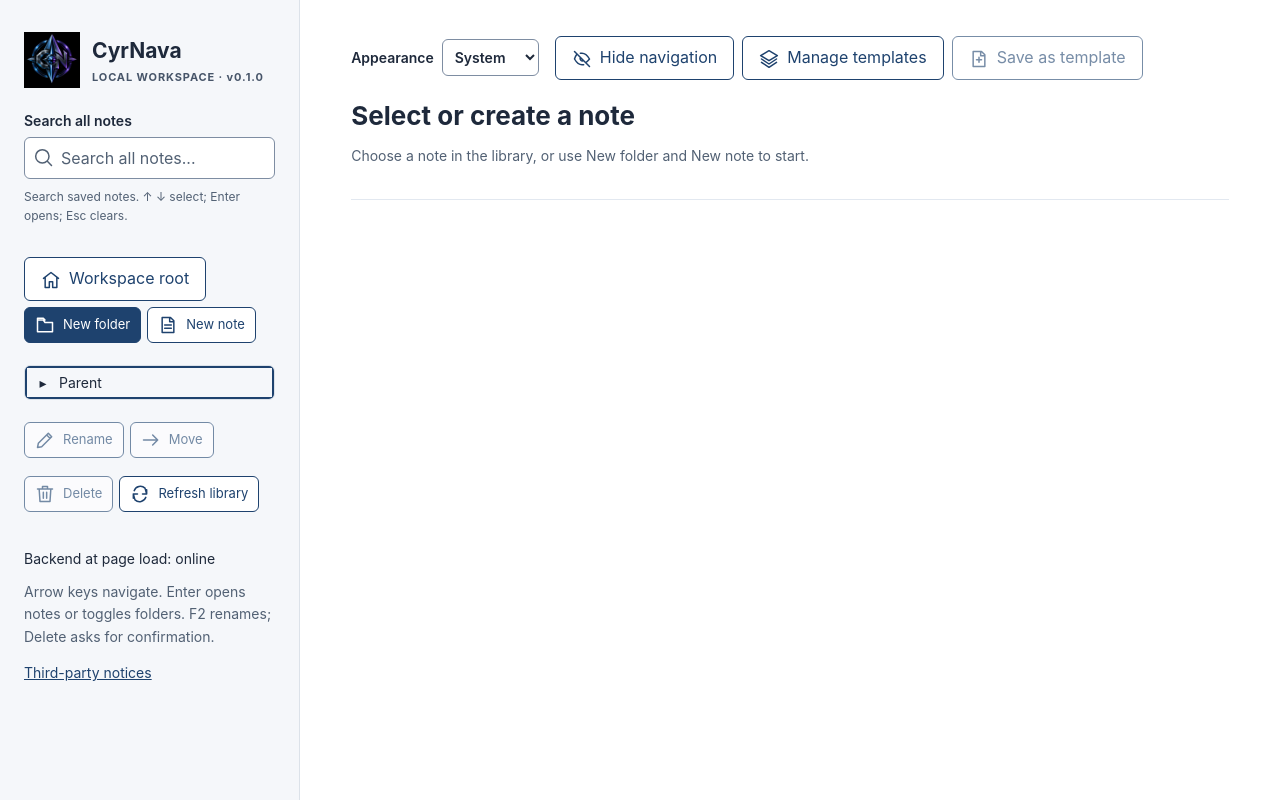
Test: handles invalid folder moves in the dialog and supports Escape cancellation
Click the list item with aria-label "Folder Parent" at (67, 382), box top-left (33, 374), bottom-right (102, 391)
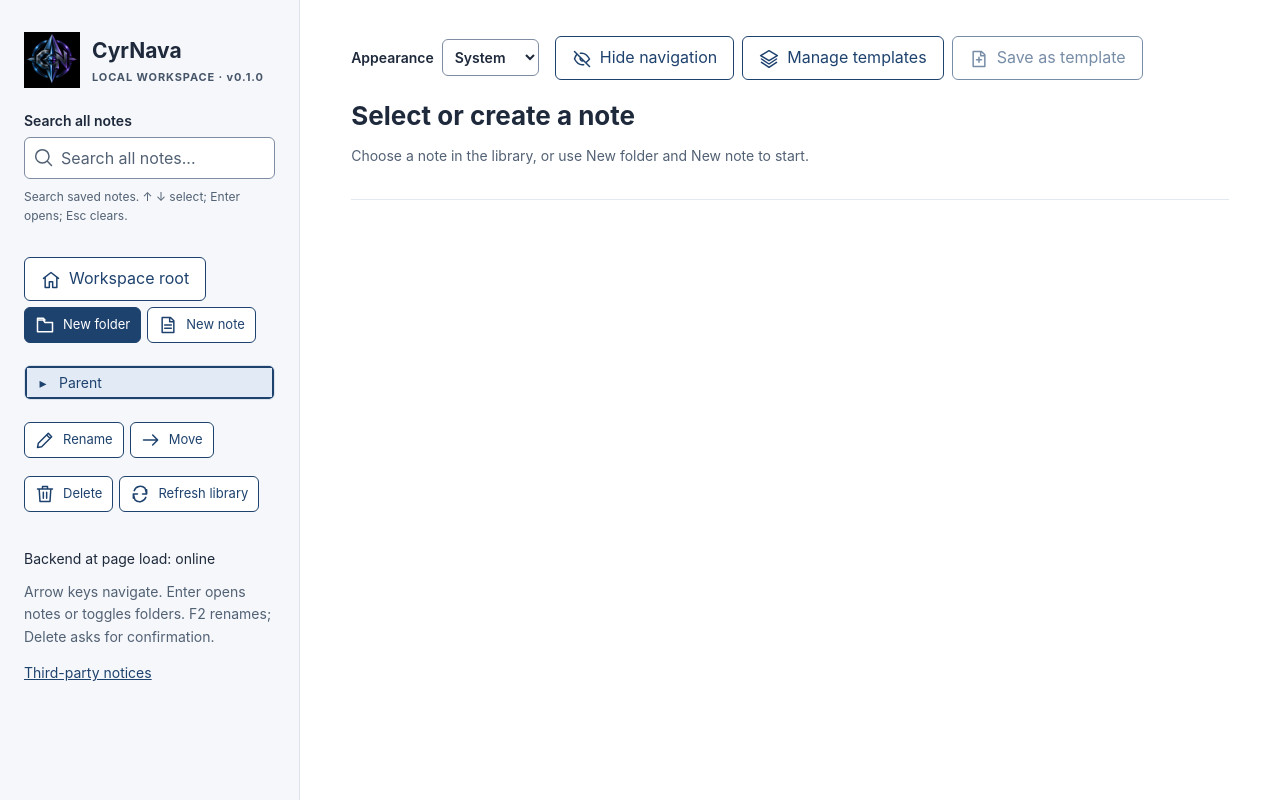
Click the button "Move" at (172, 440), box top-left (130, 422), bottom-right (214, 458)
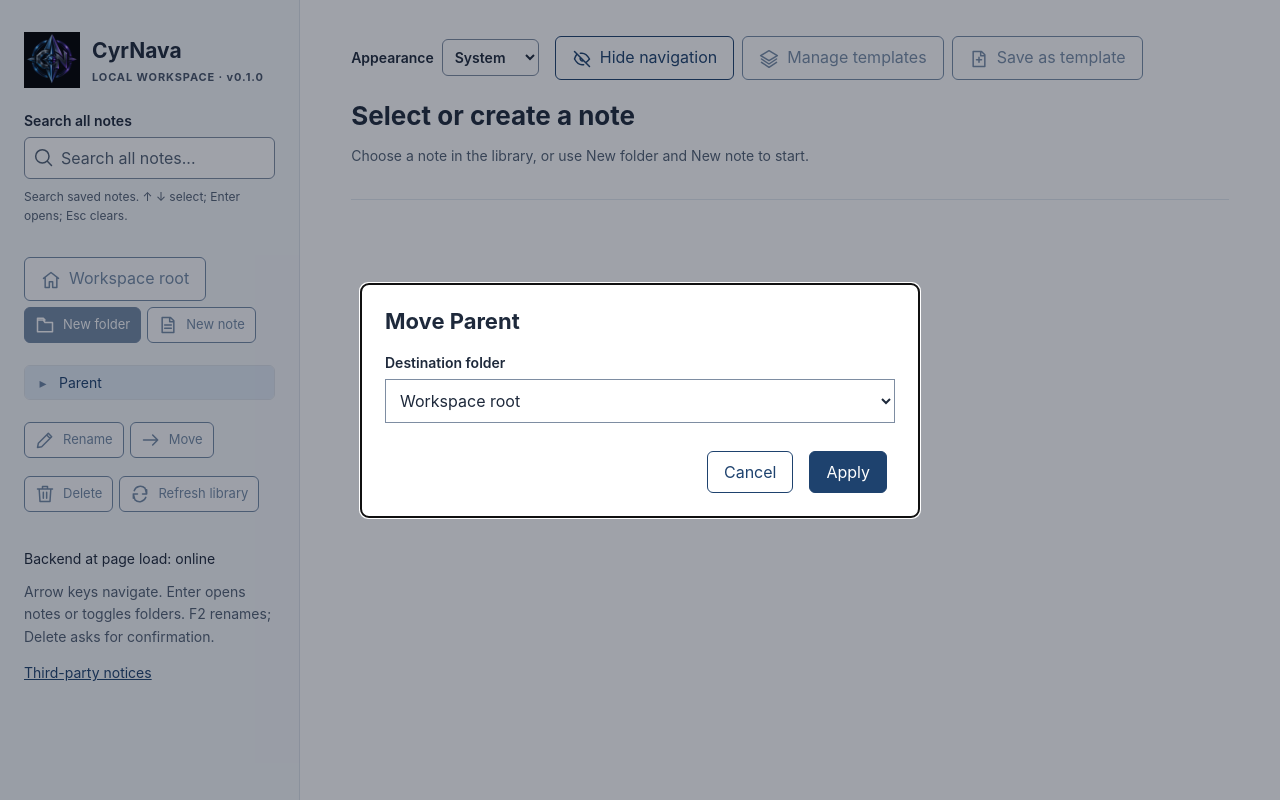
Select "Parent / Child" in the dropdown labelled "Destination folder" at (640, 400), box top-left (385, 378), bottom-right (895, 422)
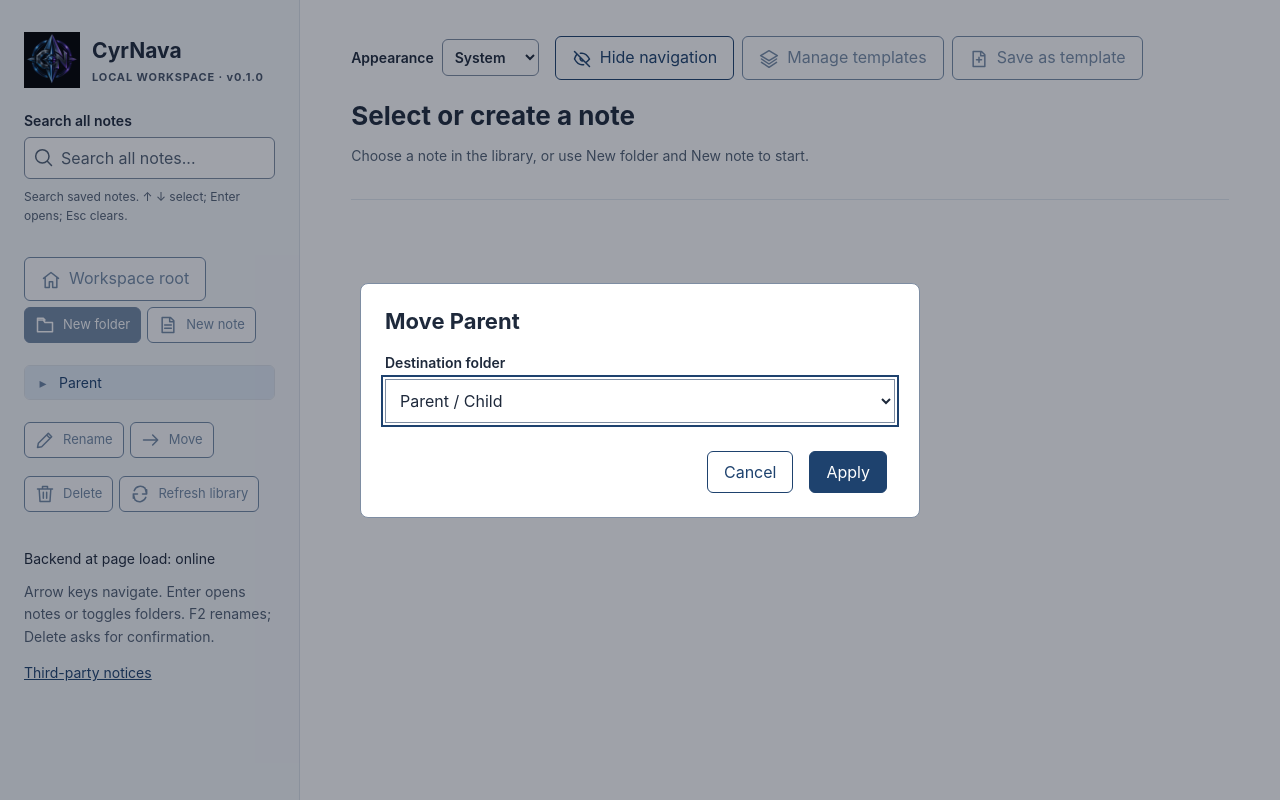
Click the button "Apply" at (848, 472), box top-left (809, 450), bottom-right (887, 492)
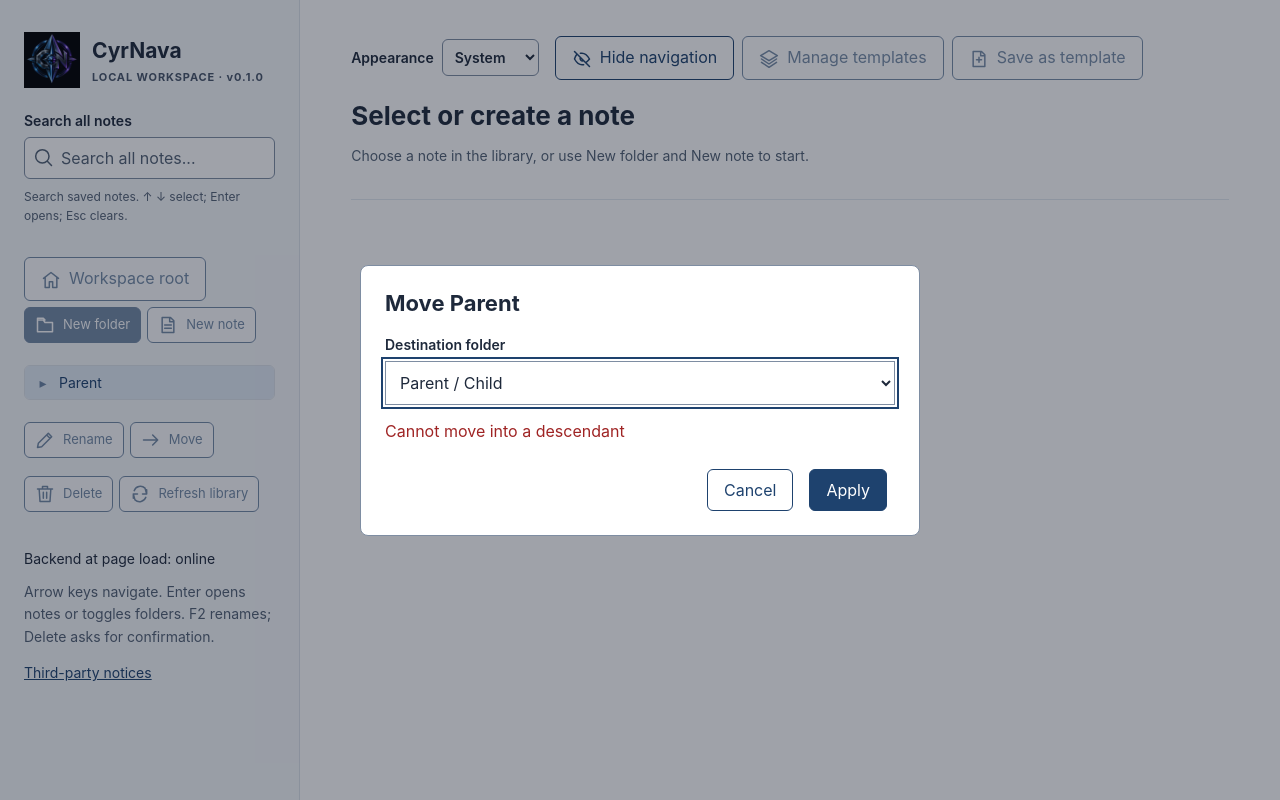
Expected: the message shows "descendant", top-left (385, 420), bottom-right (625, 440)
Press Escape in the dialog, box top-left (360, 264), bottom-right (920, 536)
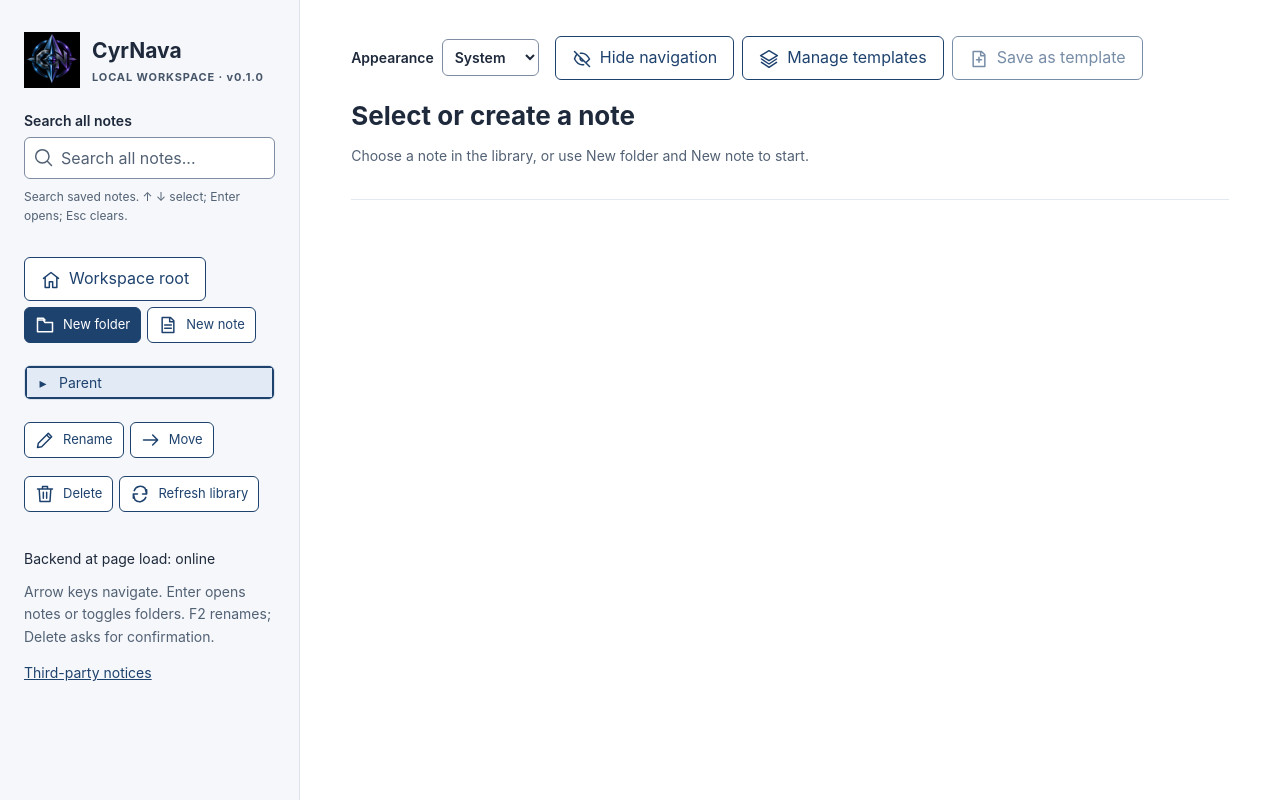
Expected: the dialog is gone
Expected: the button "New folder" is enabled, top-left (24, 307), bottom-right (141, 343)
